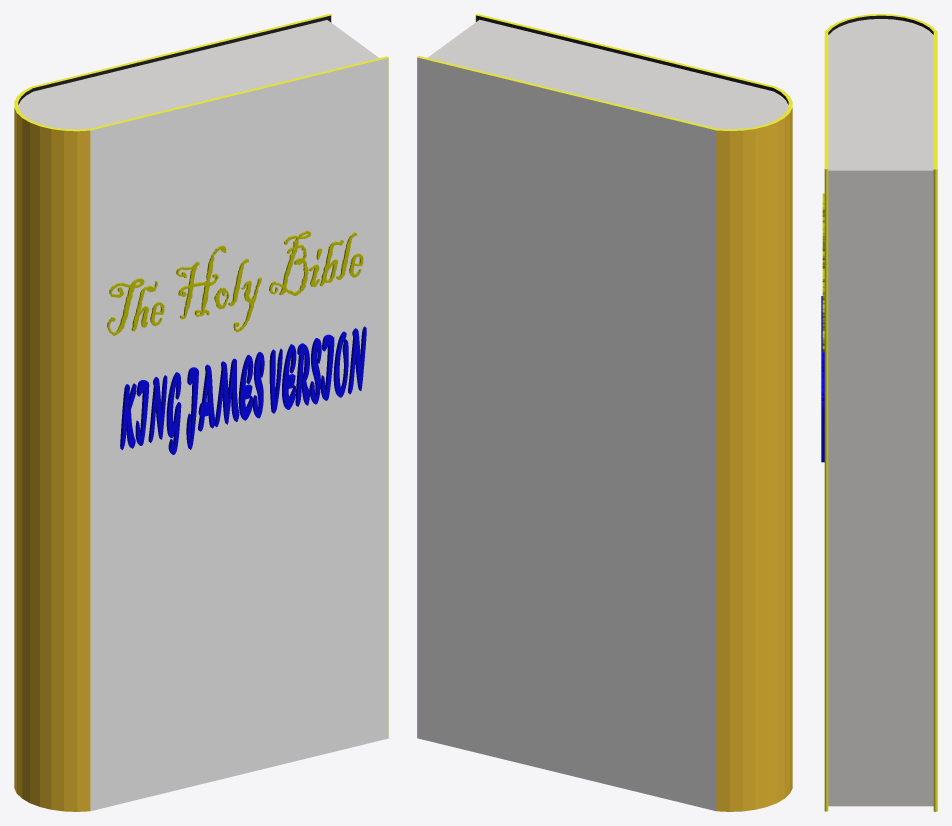
3 renders of one model, left to right at view 1: azimuth 30°, elevation 25°; view 2: azimuth 150°, elevation 25°; view 3: azimuth 270°, elevation 25°, orthographic. The views are drawn at different scales.
Parts seen in each view (by area): view 1: the holy bible; view 2: the holy bible; view 3: the holy bible.
Part boxes in pixels (x1=…): the holy bible: x1=14, y1=14, x2=388, y2=811; the holy bible: x1=417, y1=14, x2=792, y2=811; the holy bible: x1=821, y1=14, x2=937, y2=811.
Bounding box in the file's own units: 128 × 247 × 40.37.
